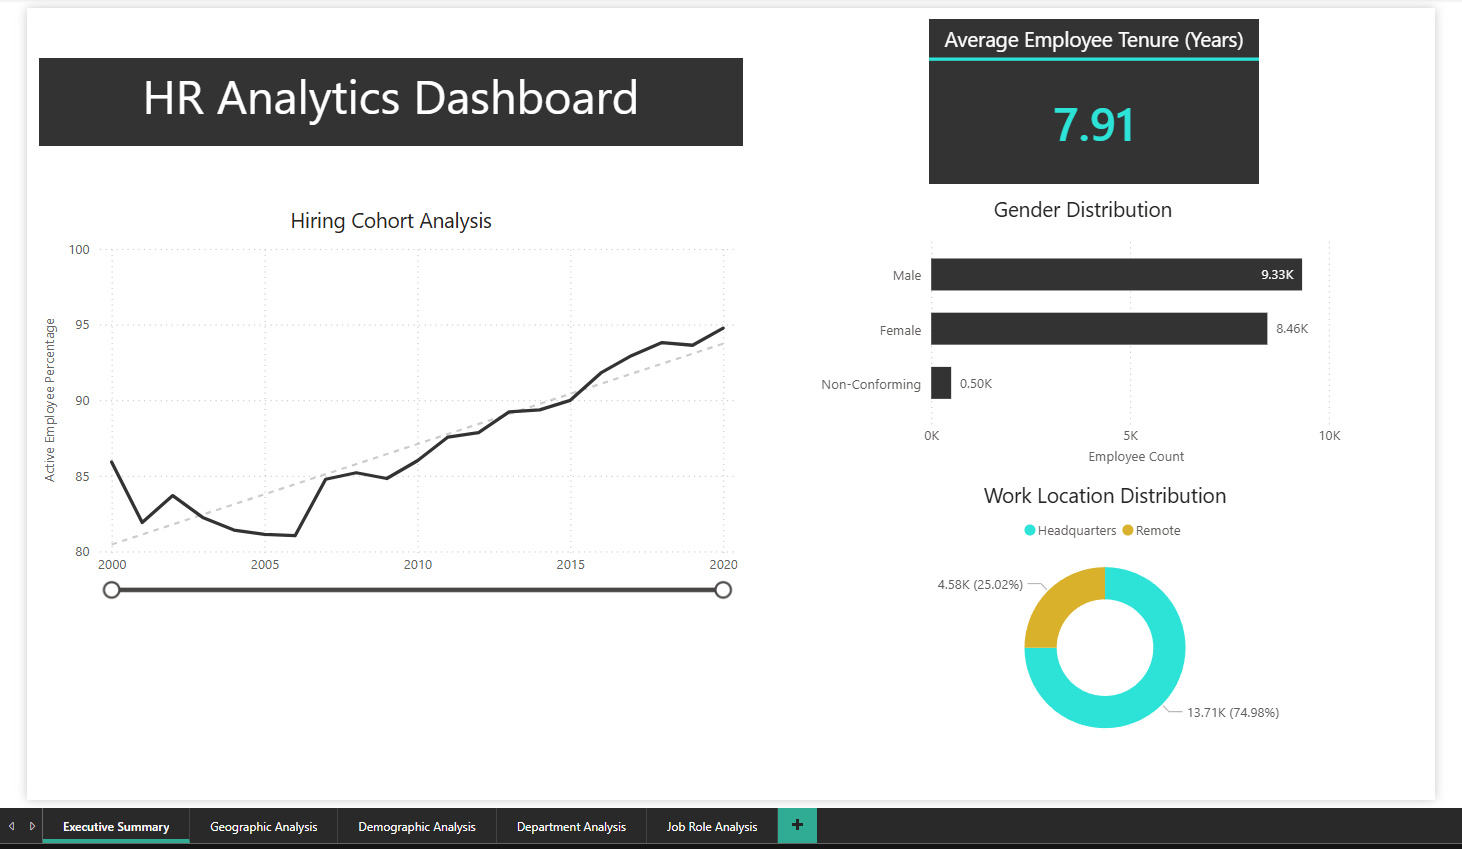

Layout of this report page (visuals, bound fields, positions):
{"tool":"powerbi","page":{"name":"Executive Summary","canvas":[1280,720],"ordinal":0},"visuals":[{"type":"textbox","box":[10.9,45.5,640,80],"z":0},{"type":"card","title":"Average Employee Tenure (Years)","fields":{"Values":["Sum(average_terminated_employee_tenure.avg_terminated_employee_tenure)"]},"box":[820,10,300,150],"z":1000},{"type":"clusteredBarChart","title":"Gender Distribution","fields":{"Category":["gender_distribution.gender"],"Y":["Sum(gender_distribution.employee_count)"]},"box":[710,170,500,250],"z":2000},{"type":"donutChart","title":"Work Location Distribution","fields":{"Category":["work_location_distribution.location"],"Y":["Sum(work_location_distribution.employee_count)"]},"box":[730,430,500,250],"z":3000},{"type":"lineChart","title":"Hiring Cohort Analysis","fields":{"Category":["hiring_cohort_analysis.hire_year"],"Y":["Sum(hiring_cohort_analysis.active_employee_percentage)"]},"box":[10.9,180,640,360],"z":4000}]}

Visuals, with their boxes on the page's 1280x720 design canvas (x1, y1, x2, y2). These are canvas units, not pixel positions in the 1462x849 screenshot, which may show the page scaled, cropped or inside an application window:
textbox: Rect(11, 46, 651, 126)
"Average Employee Tenure (Years)" card: Rect(820, 10, 1120, 160)
"Gender Distribution" clusteredBarChart: Rect(710, 170, 1210, 420)
"Work Location Distribution" donutChart: Rect(730, 430, 1230, 680)
"Hiring Cohort Analysis" lineChart: Rect(11, 180, 651, 540)
